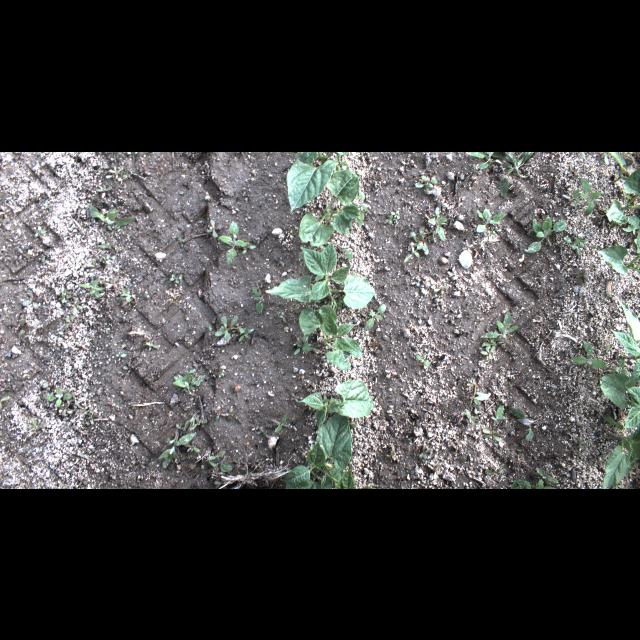crop: (264, 237, 376, 309), (282, 406, 376, 488), (299, 168, 359, 246), (296, 381, 374, 434), (298, 305, 362, 369), (287, 151, 349, 215), (610, 298, 640, 384), (601, 423, 639, 489), (599, 373, 639, 429), (596, 224, 640, 274), (606, 167, 640, 231)
weed: (484, 151, 534, 197), (159, 422, 197, 468), (522, 216, 566, 252), (479, 310, 518, 346), (508, 406, 546, 440), (219, 220, 247, 266), (572, 339, 608, 369), (215, 315, 255, 341), (90, 203, 138, 224), (580, 177, 602, 215), (172, 368, 204, 394), (476, 207, 506, 231), (427, 207, 447, 240), (564, 230, 588, 256), (44, 386, 72, 408), (465, 152, 503, 168), (364, 303, 386, 329), (354, 188, 368, 228), (510, 476, 556, 488), (78, 278, 104, 298), (208, 451, 232, 472), (250, 286, 266, 314), (403, 240, 423, 262), (294, 332, 312, 356), (603, 411, 625, 429), (415, 174, 437, 192), (536, 468, 558, 484), (492, 404, 508, 426), (614, 355, 630, 373), (118, 287, 130, 303), (481, 346, 495, 358)
